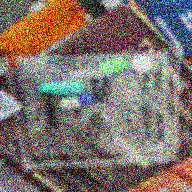러키펜정: (131, 55, 154, 72)
씨엠지세파클러캡슐: (60, 94, 100, 110)
에르도캡슐: (38, 82, 86, 97)
휴티렌정: (98, 59, 130, 76)
